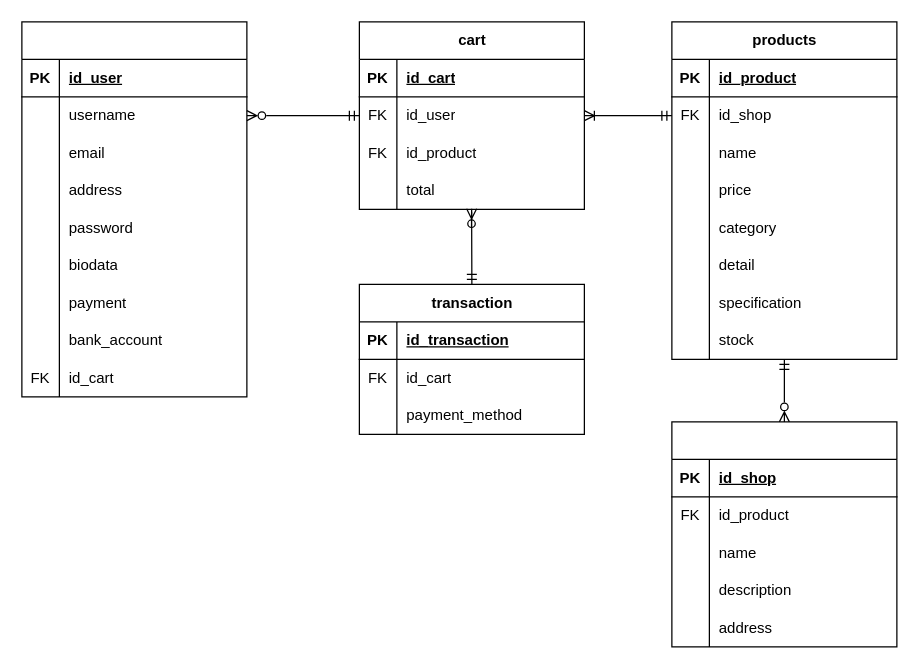
This 919x669 diagram has some shape labels left out. Each missing label, with the box of its shape:
shops: (671, 421, 897, 647)
users: (21, 21, 247, 397)
